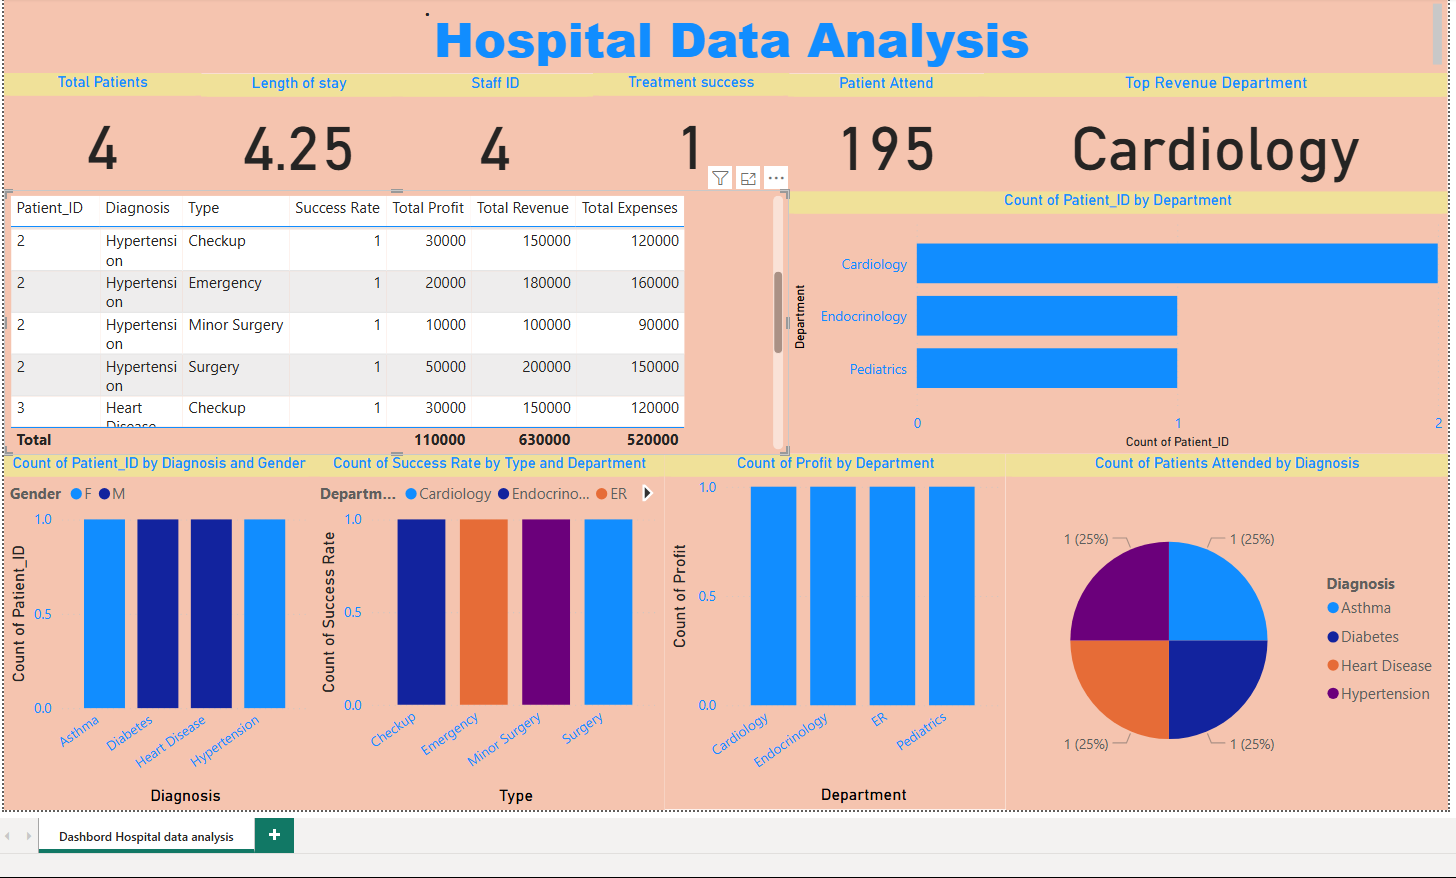

The dashboard page shown, as its layout file describes it:
{"tool":"powerbi","page":{"name":"Dashbord Hospital data analysis","canvas":[1280,720],"ordinal":0},"visuals":[{"type":"columnChart","fields":{"Category":["patients.Diagnosis"],"Y":["CountNonNull(patients.Patient_ID)"],"Series":["patients.Gender"]},"box":[0,404.3,274.9,315.7],"z":0},{"type":"barChart","fields":{"Category":["operations.Department"],"Y":["CountNonNull(patients.Patient_ID)"]},"box":[695.2,171.1,585.2,233.2],"z":1000},{"type":"pieChart","fields":{"Y":["CountNonNull(staff.Patients Attended)"],"Category":["patients.Diagnosis"]},"box":[888.5,404.3,391.9,315.7],"z":2000},{"type":"columnChart","fields":{"Category":["operations.Type"],"Y":["CountNonNull(operations.Success Rate)"],"Series":["operations.Department"]},"box":[274.9,404.3,311.2,315.7],"z":3000},{"type":"clusteredColumnChart","fields":{"Category":["finance.Department"],"Y":["CountNonNull(finance.Profit)"]},"box":[586.1,404.3,302.4,314.8],"z":4000},{"type":"textbox","box":[0,0,1280.4,66.5],"z":5000},{"type":"card","title":"Total Patients","fields":{"Values":["CountNonNull(patients.Patient_ID)"]},"box":[0,66.5,174.7,103.7],"z":6000},{"type":"card","title":"Length of stay","fields":{"Values":["Avg(patients.Length of Stay)"]},"box":[174.7,67.4,173.8,103.7],"z":7000},{"type":"card","title":"Staff ID","fields":{"Values":["CountNonNull(staff.Staff_ID)"]},"box":[348.5,67.4,173.8,103.7],"z":8000},{"type":"card","title":"Treatment success","fields":{"Values":["Min(staff.Avg Treatment Success)"]},"box":[522.3,66.5,173.8,103.7],"z":9000},{"type":"card","title":"Patient Attend","fields":{"Values":["Sum(staff.Patients Attended)"]},"box":[695.2,67.4,173.8,103.7],"z":10000},{"type":"card","title":"Top Revenue Department","fields":{"Values":["finance.Top Revenue Department"]},"box":[869,66.5,411.4,104.6],"z":11000},{"type":"tableEx","fields":{"Values":["patients.Patient_ID","patients.Diagnosis","operations.Type","operations.Success Rate","finance.Total Profit","finance.Total Revenue","finance.Total Expenses"]},"box":[0,170.2,696.1,235],"z":12000}]}

Visuals, with their boxes on the page's 1280x720 design canvas (x1, y1, x2, y2). These are canvas units, not pixel positions in the 1456x878 screenshot, which may show the page scaled, cropped or inside an application window:
columnChart - patients.Diagnosis x CountNonNull(patients.Patient_ID): rect(0, 404, 275, 720)
barChart - operations.Department x CountNonNull(patients.Patient_ID): rect(695, 171, 1280, 404)
pieChart - CountNonNull(staff.Patients Attended) x patients.Diagnosis: rect(888, 404, 1280, 720)
columnChart - operations.Type x CountNonNull(operations.Success Rate): rect(275, 404, 586, 720)
clusteredColumnChart - finance.Department x CountNonNull(finance.Profit): rect(586, 404, 888, 719)
textbox: rect(0, 0, 1280, 66)
"Total Patients" card: rect(0, 66, 175, 170)
"Length of stay" card: rect(175, 67, 348, 171)
"Staff ID" card: rect(348, 67, 522, 171)
"Treatment success" card: rect(522, 66, 696, 170)
"Patient Attend" card: rect(695, 67, 869, 171)
"Top Revenue Department" card: rect(869, 66, 1280, 171)
tableEx - patients.Patient_ID x patients.Diagnosis: rect(0, 170, 696, 405)
